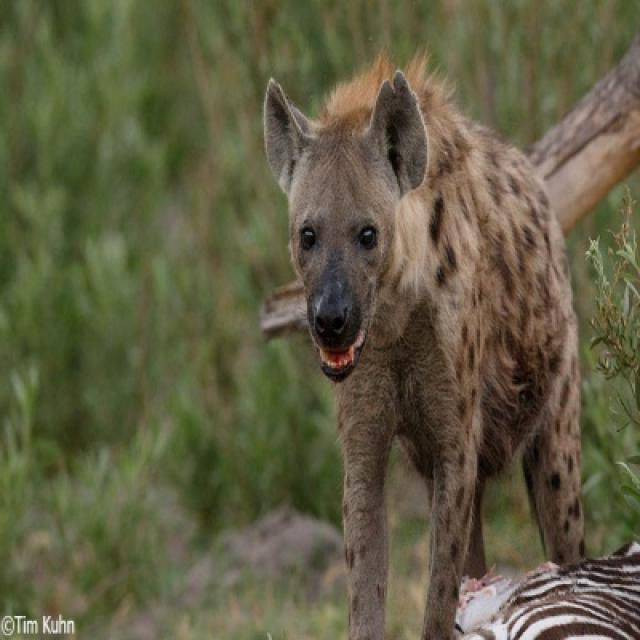hyena: (261, 46, 586, 638)
